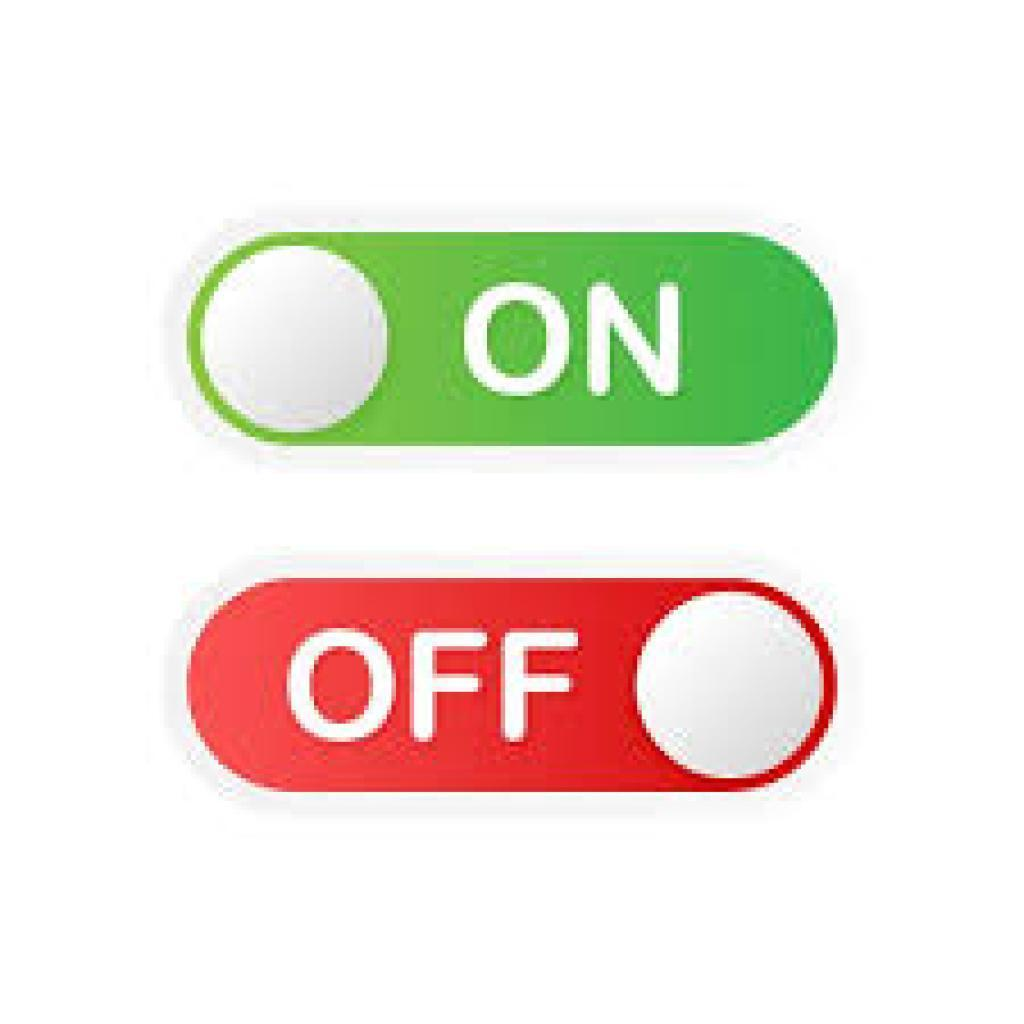switch: (178, 555, 858, 809), (177, 218, 848, 467)
